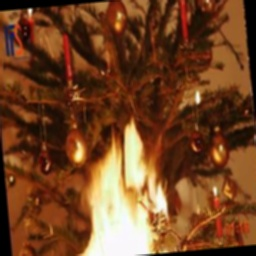fire: (55, 115, 181, 256)
